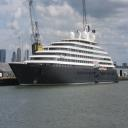cruises: (5, 22, 121, 89)
